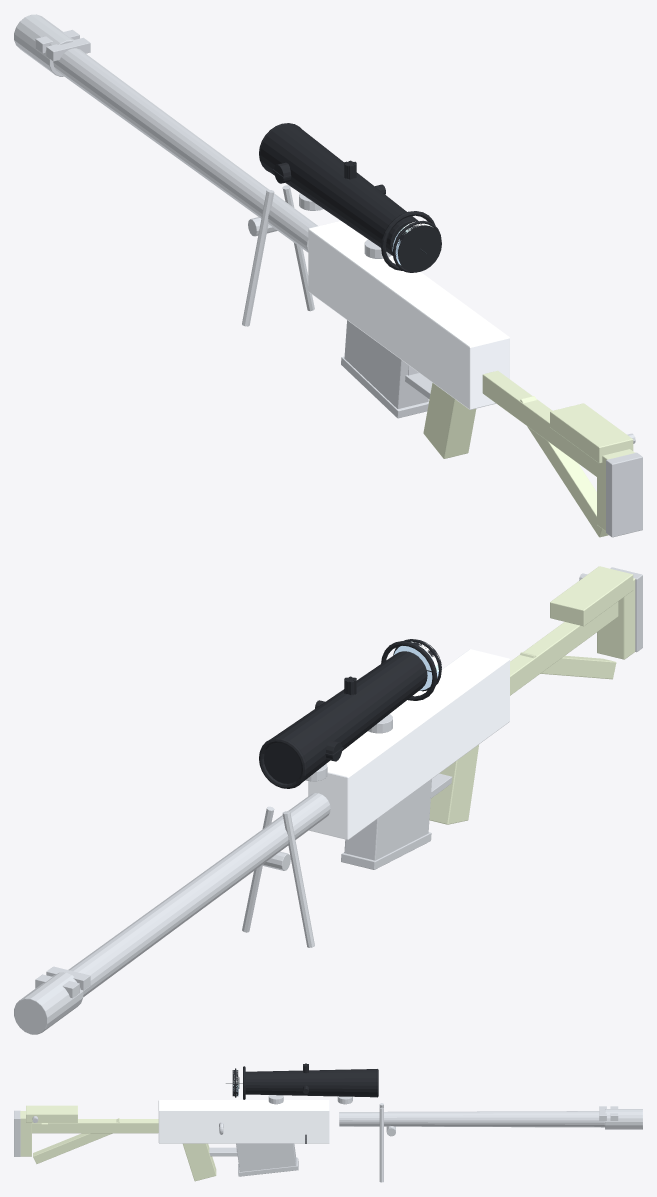
3 renders of one model, top to bottom at view 1: azimuth 30°, elevation 25°; view 2: azimuth 150°, elevation 25°; view 3: azimuth 270°, elevation 25°, orthographic. The views are drawn at different scales.
Visible parts, largest first — view 1: Receiver, Barrel, ScopeTubeBody, Stock, mag, ButtPad, CheekRest, Grip, ScopeLensBlack, MuzzleBrake, BipodLegL; view 2: Receiver, ScopeTubeBody, Barrel, Stock, mag, CheekRest, MuzzleBrake, Grip, BipodLegL, BipodLegR, ButtPad; view 3: Receiver, Barrel, ScopeTubeBody, Stock, mag, Grip, CheekRest, MuzzleBrake, BipodLegR, ButtPad, TriggerGuardTop, ScopeMounts.
Boxes of the visible parts, x1,y1,x2,y2 form: Receiver: [308, 220, 509, 409]; Barrel: [53, 48, 317, 252]; ScopeTubeBody: [259, 123, 435, 270]; Stock: [482, 370, 634, 537]; mag: [341, 320, 428, 418]; ButtPad: [606, 452, 642, 537]; CheekRest: [550, 403, 633, 463]; Grip: [423, 383, 476, 458]; ScopeLensBlack: [393, 223, 441, 272]; MuzzleBrake: [14, 14, 73, 76]; BipodLegL: [242, 189, 274, 326]; Receiver: [308, 649, 509, 839]; ScopeTubeBody: [259, 641, 437, 788]; Barrel: [68, 793, 330, 996]; Stock: [510, 578, 635, 695]; mag: [341, 779, 431, 869]; CheekRest: [550, 566, 633, 626]; MuzzleBrake: [14, 972, 83, 1034]; Grip: [429, 744, 478, 824]; BipodLegL: [282, 811, 314, 947]; BipodLegR: [242, 806, 274, 932]; ButtPad: [610, 567, 642, 652]; Receiver: [158, 1100, 329, 1143]; Barrel: [339, 1111, 604, 1127]; ScopeTubeBody: [243, 1063, 378, 1143]; Stock: [20, 1111, 158, 1163]; mag: [236, 1143, 298, 1176]; Grip: [183, 1143, 216, 1181]; CheekRest: [26, 1105, 77, 1122]; MuzzleBrake: [605, 1109, 642, 1129]; BipodLegR: [379, 1107, 383, 1182]; ButtPad: [14, 1110, 20, 1156]; TriggerGuardTop: [209, 1147, 237, 1156]; ScopeMounts: [268, 1095, 352, 1104].
Bounding box in the file's own units: 0.0989 × 0.2639 × 1.32.
